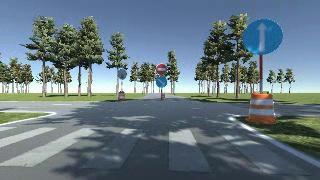go_ahead: (240, 20, 283, 53)
